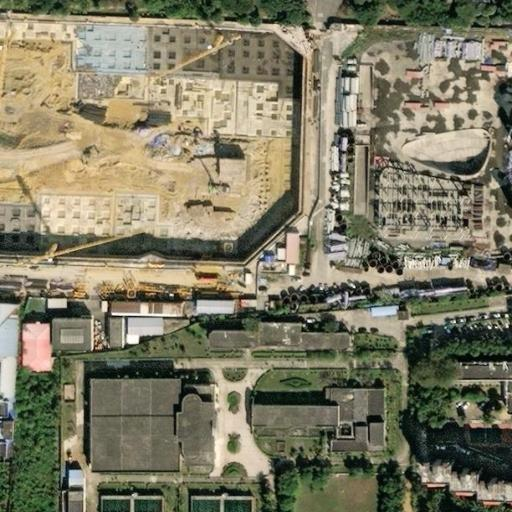building: (87, 380, 177, 471), (416, 462, 512, 507), (176, 388, 214, 462), (249, 408, 335, 428), (254, 315, 303, 344), (96, 491, 161, 512), (187, 491, 251, 512), (16, 325, 45, 370), (50, 321, 91, 352), (297, 326, 350, 348), (361, 389, 379, 450), (105, 302, 177, 316), (460, 364, 512, 383), (202, 324, 246, 346), (326, 389, 351, 422), (214, 153, 244, 179), (351, 389, 362, 443), (192, 300, 228, 315), (0, 414, 12, 457), (121, 318, 153, 334), (278, 232, 291, 264), (103, 321, 118, 347), (61, 472, 79, 493), (326, 443, 362, 453), (503, 383, 512, 418), (65, 492, 80, 512), (362, 306, 389, 316), (37, 298, 58, 309), (54, 492, 61, 512), (232, 300, 248, 308), (269, 248, 278, 260), (254, 257, 267, 263)
